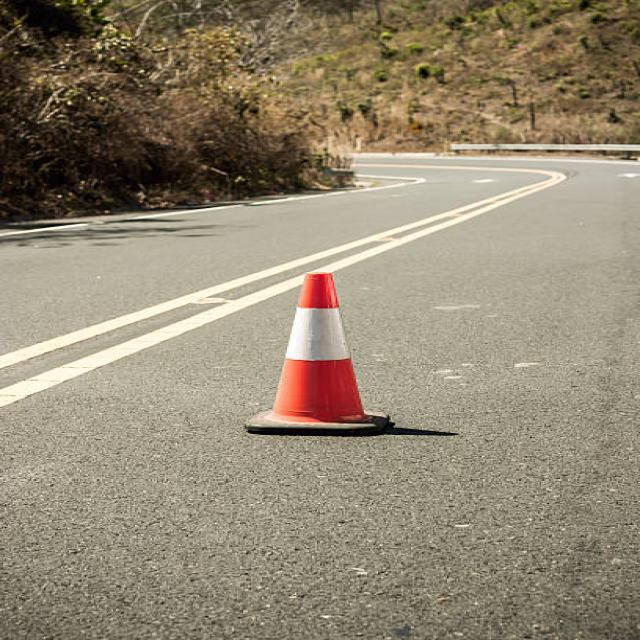Traffic Cone: (217, 241, 429, 460)
